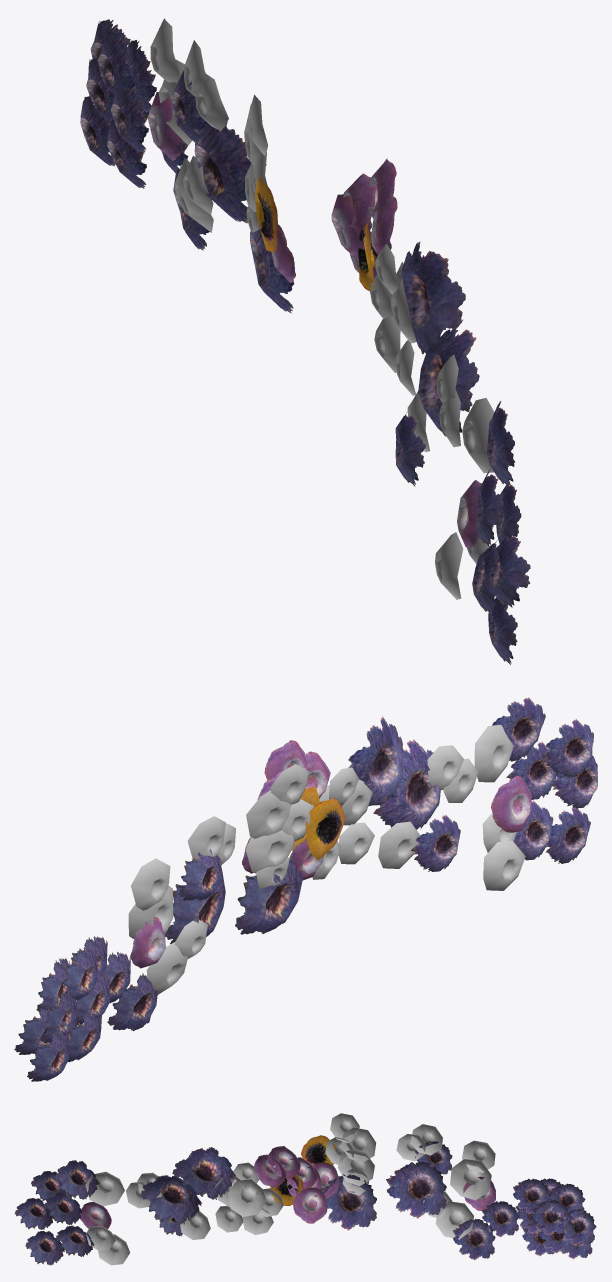
The model's file is Left_Flower5.fbx.
The picture shows the model from 3 angles, top to bottom: view 1: azimuth 30°, elevation 25°; view 2: azimuth 150°, elevation 25°; view 3: azimuth 270°, elevation 25°; orthographic projection. The views are drawn at different scales.
Visible parts, largest first — view 1: Circle.1025, Circle.988, Circle.1024, Circle.1035, Circle.989, Circle.996, Circle.992, Circle.1011, Circle.1026, Circle.1023, Circle.1002, Circle.1029 (+23 smaller); view 2: Circle.1024, Circle.1025, Circle.989, Circle.1029, Circle.1026, Circle.988, Circle.1023, Circle.990, Circle.1038, Circle.1007, Circle.1033, Circle.1011 (+35 smaller); view 3: Circle.988, Circle.1025, Circle.1024, Circle.989, Circle.990, Circle.1003, Circle.1026, Circle.1010, Circle.1001, Circle.1005, Circle.1033, Circle.998 (+41 smaller).
Part boxes in pixels (x1=…): Circle.1025: x1=401, y1=241, x2=465, y2=354; Circle.988: x1=194, y1=122, x2=266, y2=223; Circle.1024: x1=418, y1=319, x2=479, y2=436; Circle.1035: x1=489, y1=529, x2=530, y2=607; Circle.989: x1=250, y1=227, x2=294, y2=313; Circle.996: x1=97, y1=30, x2=134, y2=94; Circle.992: x1=111, y1=86, x2=148, y2=153; Circle.1011: x1=462, y1=398, x2=494, y2=473; Circle.1026: x1=487, y1=401, x2=514, y2=486; Circle.1023: x1=395, y1=411, x2=425, y2=486; Circle.1002: x1=147, y1=92, x2=182, y2=161; Circle.1029: x1=475, y1=469, x2=503, y2=547; Circle.1024: x1=373, y1=739, x2=440, y2=829; Circle.1025: x1=348, y1=716, x2=402, y2=806; Circle.989: x1=235, y1=857, x2=303, y2=934; Circle.1029: x1=541, y1=719, x2=593, y2=777; Circle.1026: x1=492, y1=697, x2=545, y2=761; Circle.988: x1=165, y1=866, x2=225, y2=943; Circle.1023: x1=410, y1=815, x2=460, y2=871; Circle.990: x1=107, y1=973, x2=157, y2=1031; Circle.1038: x1=491, y1=775, x2=531, y2=832; Circle.1007: x1=305, y1=798, x2=345, y2=859; Circle.1033: x1=546, y1=807, x2=590, y2=863; Circle.1011: x1=474, y1=724, x2=513, y2=782; Circle.988: x1=386, y1=1161, x2=446, y2=1218; Circle.1025: x1=172, y1=1147, x2=236, y2=1199; Circle.1024: x1=140, y1=1175, x2=201, y2=1224; Circle.989: x1=321, y1=1174, x2=376, y2=1230; Circle.990: x1=452, y1=1218, x2=495, y2=1260; Circle.1003: x1=450, y1=1159, x2=491, y2=1200; Circle.1026: x1=55, y1=1160, x2=99, y2=1199; Circle.1010: x1=228, y1=1179, x2=266, y2=1216; Circle.1001: x1=481, y1=1201, x2=518, y2=1237; Circle.1005: x1=293, y1=1187, x2=327, y2=1223; Circle.1033: x1=25, y1=1231, x2=64, y2=1265; Circle.998: x1=513, y1=1178, x2=550, y2=1214.
Bounding box in the file's own units: 41.8 × 72.95 × 231.
